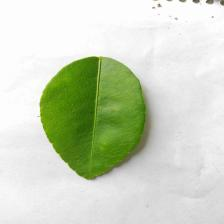greening: (47, 75, 138, 133)
